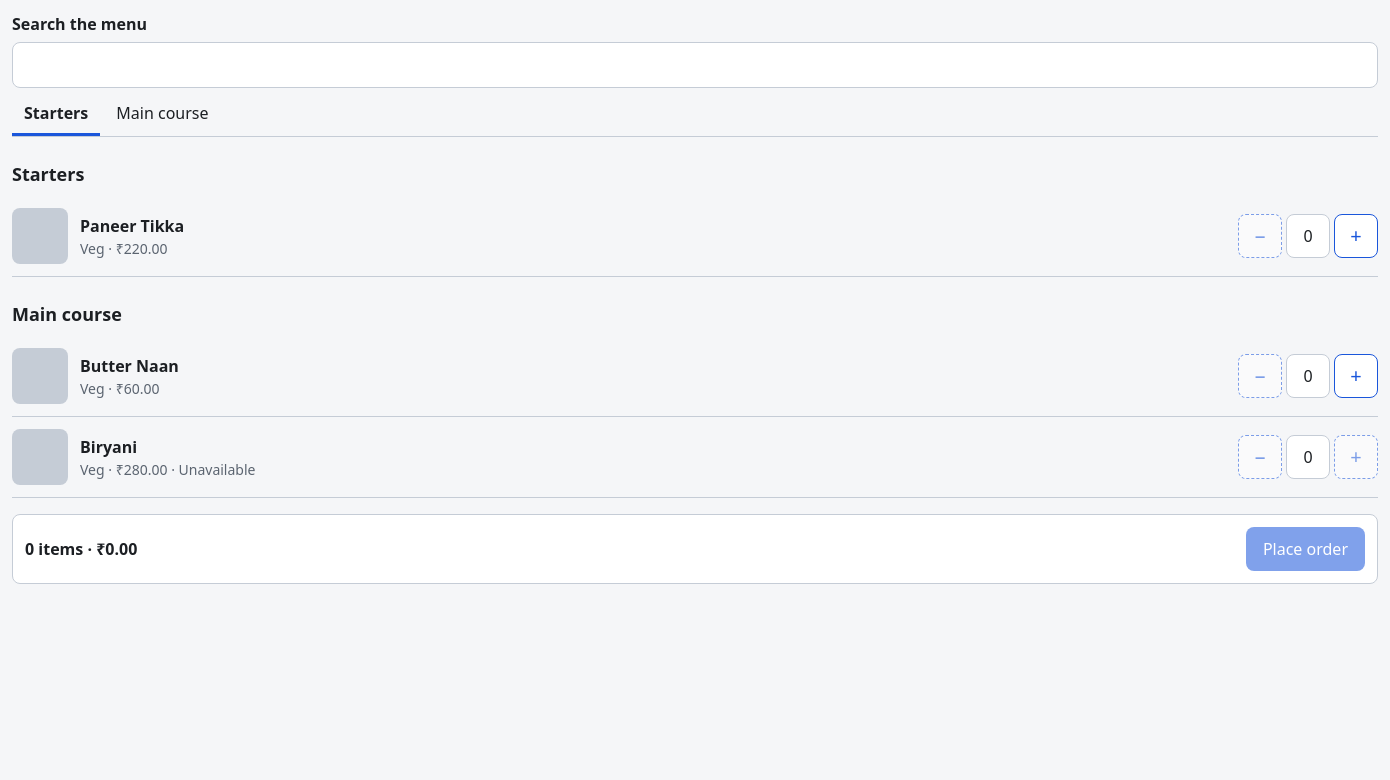
Test: the flow: paying on an outside page and coming back › shows the status page at once when there is no payment step
Step 1. Click the button named "Add Paneer Tikka" → click(1356, 236), box x1=1334 y1=214 x2=1378 y2=258
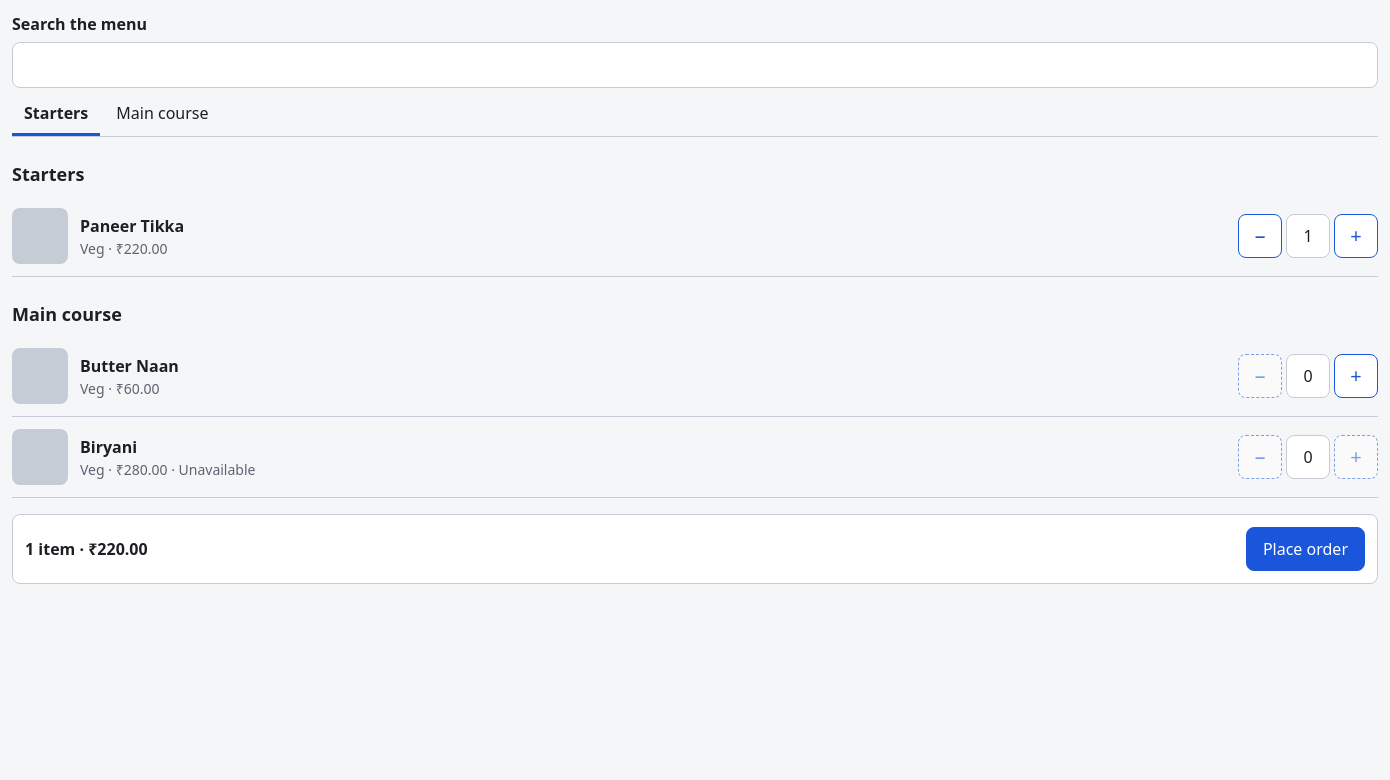
Step 2. Click the button "Place order" → click(1305, 549), box x1=1246 y1=527 x2=1365 y2=571
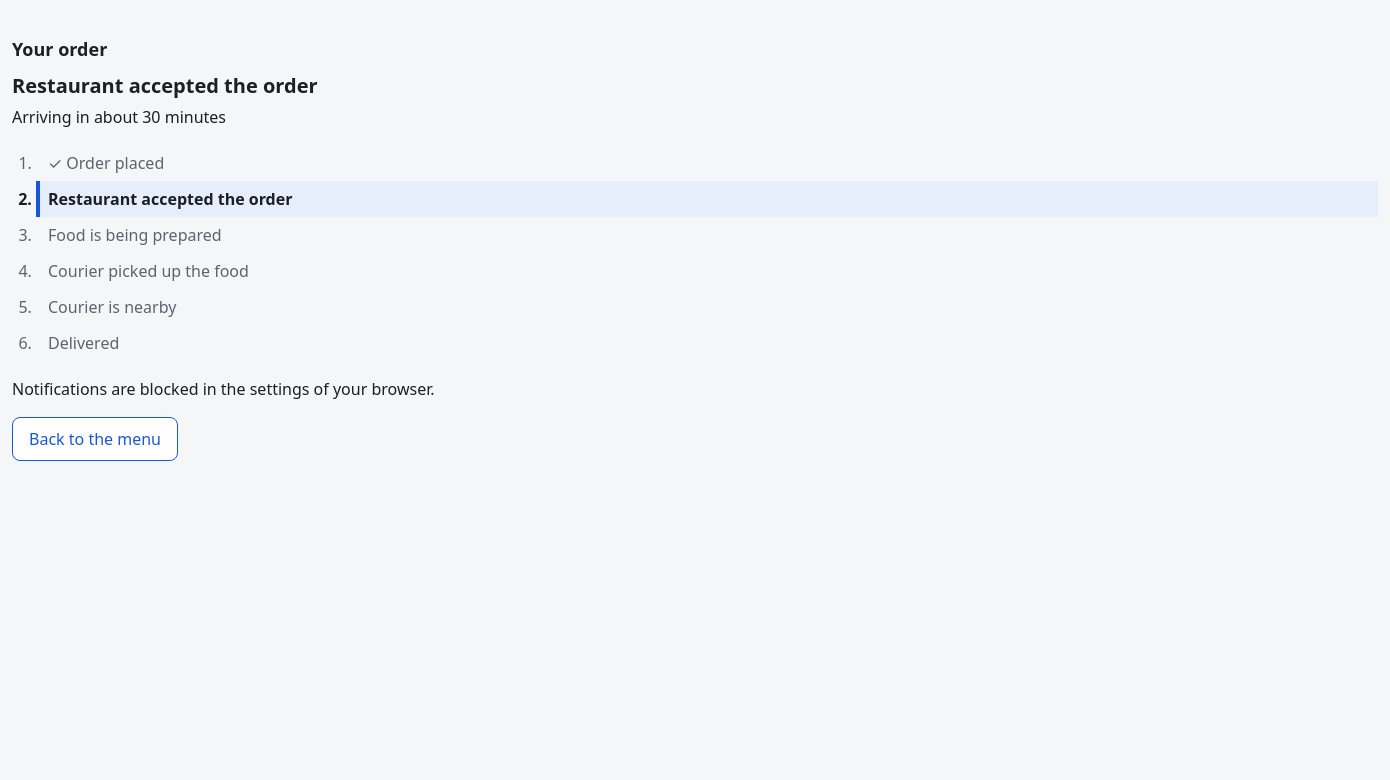
Expected: the heading "Your order" is shown, x1=12 y1=37 x2=107 y2=61
